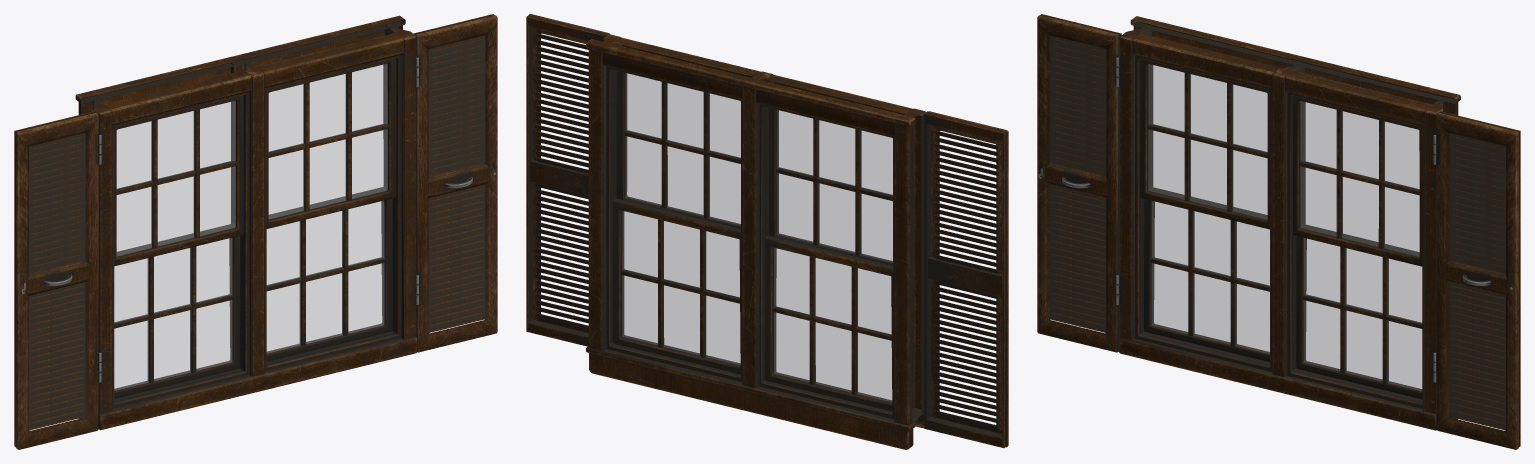
Rendered from window__wodden_4_mb.glb.
3 renders of one model, left to right at view 1: azimuth 30°, elevation 25°; view 2: azimuth 150°, elevation 25°; view 3: azimuth 330°, elevation 25°, orthographic.
Parts seen in each view (by area): view 1: 1_01_0, Glass, Null, Null_1; view 2: 1_01_0, Glass, Null, Null_1; view 3: 1_01_0, Glass, Null_1, Null.
Boxes of the visible parts, left/top/right/bottom form: 1_01_0: left=75, top=15, right=417, bottom=430; Glass: left=114, top=64, right=387, bottom=390; Null: left=14, top=111, right=98, bottom=449; Null_1: left=413, top=14, right=497, bottom=352; 1_01_0: left=586, top=34, right=925, bottom=449; Glass: left=622, top=73, right=892, bottom=402; Null: left=924, top=111, right=1008, bottom=448; Null_1: left=526, top=14, right=609, bottom=346; 1_01_0: left=1119, top=16, right=1460, bottom=430; Glass: left=1148, top=64, right=1421, bottom=390; Null_1: left=1436, top=111, right=1520, bottom=449; Null: left=1037, top=14, right=1121, bottom=352.
Size of the model in its own units: 2.31 by 1.52 by 0.221.
3 materials, 2 textured.
